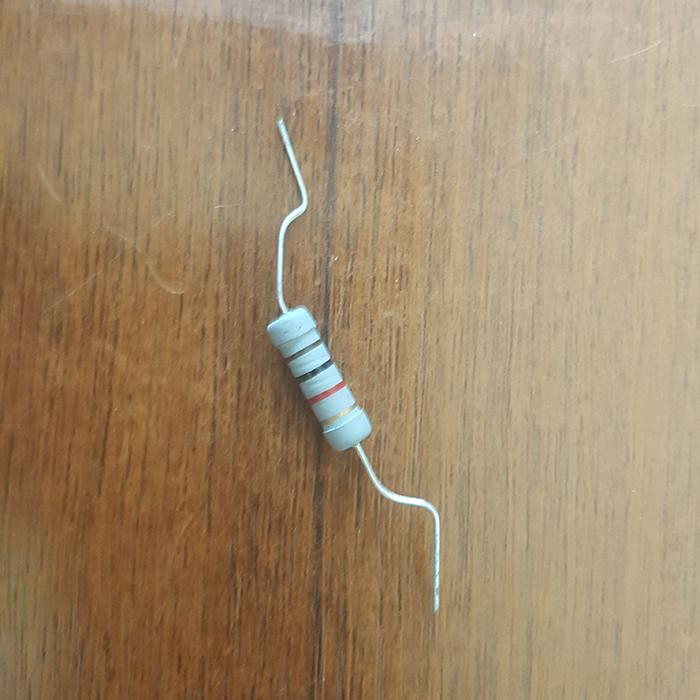resistor: (266, 306, 370, 447)
